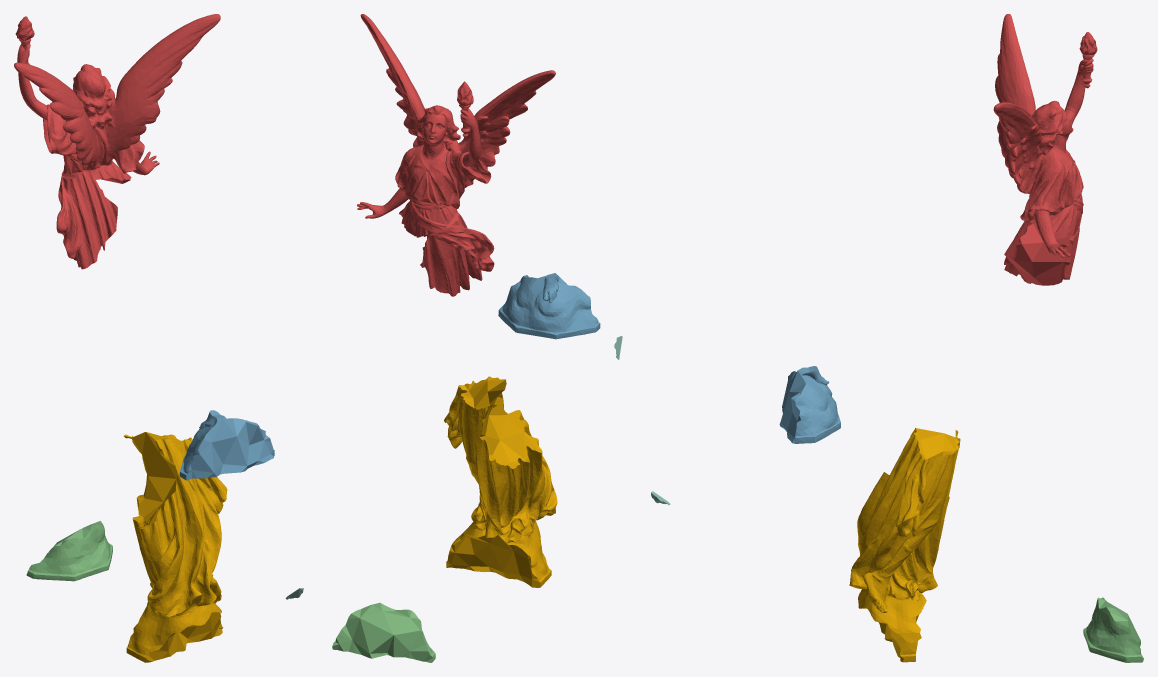
Rendered from fractured_53_5pcs_transformed.glb.
3 views of the same model, side by side, from view 1: azimuth 30°, elevation 25°; view 2: azimuth 150°, elevation 25°; view 3: azimuth 270°, elevation 25° (orthographic).
Visible parts, largest first — view 1: piece_1.obj, piece_0.obj, piece_2.obj, piece_3.obj; view 2: piece_1.obj, piece_0.obj, piece_2.obj, piece_3.obj; view 3: piece_1.obj, piece_0.obj, piece_2.obj, piece_3.obj.
Part boxes in pixels (box(x1,y1,x2,y2)): piece_1.obj: box(14, 14, 220, 269); piece_0.obj: box(124, 432, 227, 662); piece_2.obj: box(179, 410, 274, 480); piece_3.obj: box(26, 521, 112, 581); piece_1.obj: box(357, 14, 555, 296); piece_0.obj: box(444, 376, 557, 587); piece_2.obj: box(498, 273, 600, 339); piece_3.obj: box(332, 602, 435, 662); piece_1.obj: box(993, 14, 1097, 285); piece_0.obj: box(849, 427, 960, 662); piece_2.obj: box(779, 366, 840, 443); piece_3.obj: box(1083, 597, 1143, 662).
Bounding box in the file's own units: 0.5821 × 1.6 × 1.23.
